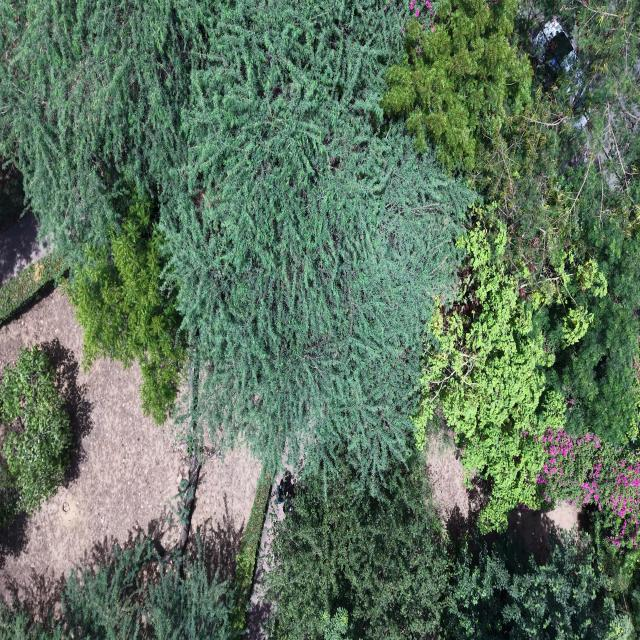DRY_AREA: (0, 289, 188, 614), (246, 473, 285, 639), (246, 474, 285, 639), (427, 435, 482, 528), (508, 503, 579, 561), (427, 435, 469, 519), (0, 212, 47, 285)
VEGETATION_TREE: (0, 0, 639, 638), (0, 0, 475, 486), (161, 0, 474, 487), (424, 2, 639, 637), (417, 3, 639, 527), (168, 130, 467, 486), (0, 2, 201, 421), (416, 224, 639, 528), (267, 455, 634, 639), (444, 0, 639, 299), (269, 482, 634, 639), (0, 0, 212, 265), (383, 0, 574, 286), (470, 0, 639, 300), (415, 225, 563, 530), (265, 453, 447, 638), (514, 0, 639, 252), (69, 197, 186, 423), (0, 535, 247, 639), (382, 0, 531, 170), (468, 76, 581, 299), (0, 538, 237, 639), (538, 209, 639, 444), (443, 532, 633, 639), (58, 540, 233, 639), (0, 346, 71, 522), (161, 349, 219, 562), (538, 430, 639, 549), (144, 558, 236, 639), (583, 505, 639, 637), (233, 475, 272, 631), (0, 252, 64, 325), (0, 602, 50, 639), (0, 156, 24, 233), (0, 466, 17, 526), (323, 608, 348, 639)
